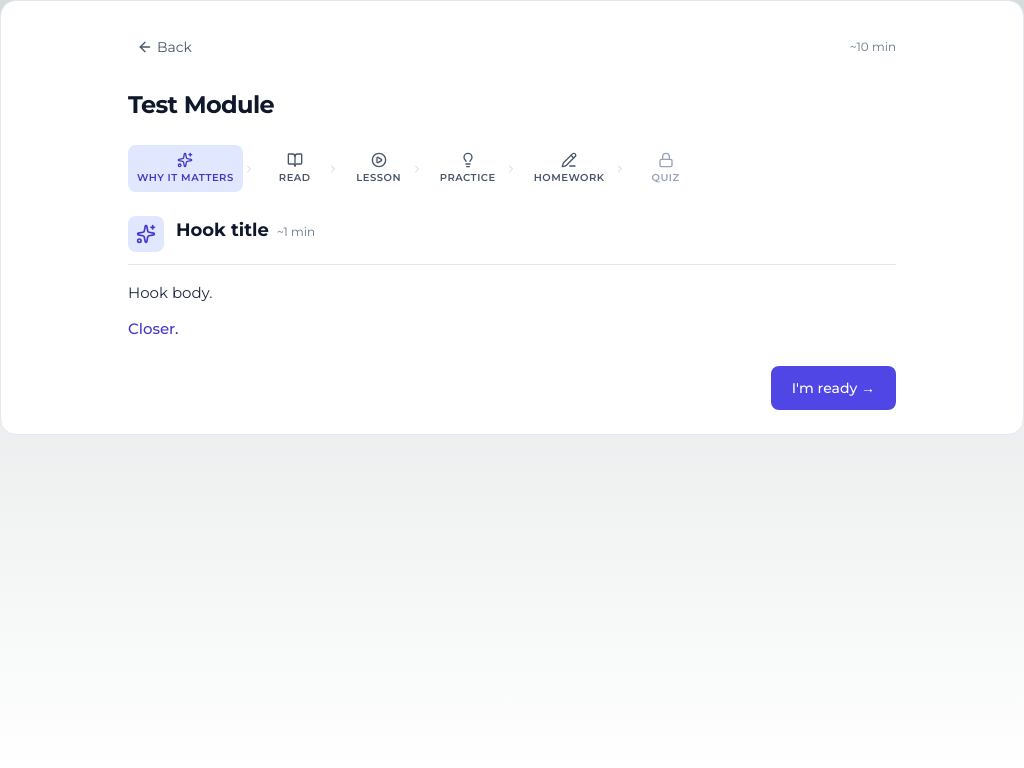
Test case: ModuleStructure section persistence › does not re-send a section that already succeeded on retry
This screenshot has width=1024, height=768.
Click the button "I'm ready →" at (833, 388), box [771,366,896,410]
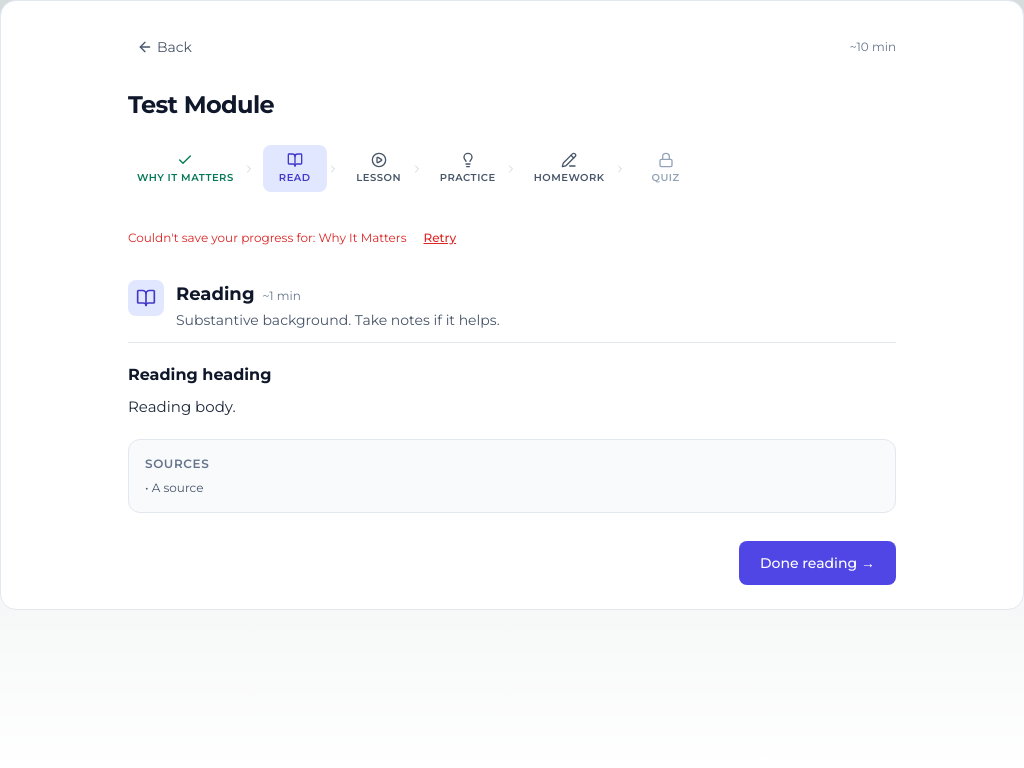
Check: the message "Couldn't save your progress for: Why It Matters Retry" is shown, box [128,216,465,260]
Click the button "Retry" at (440, 238), box [414,216,465,260]
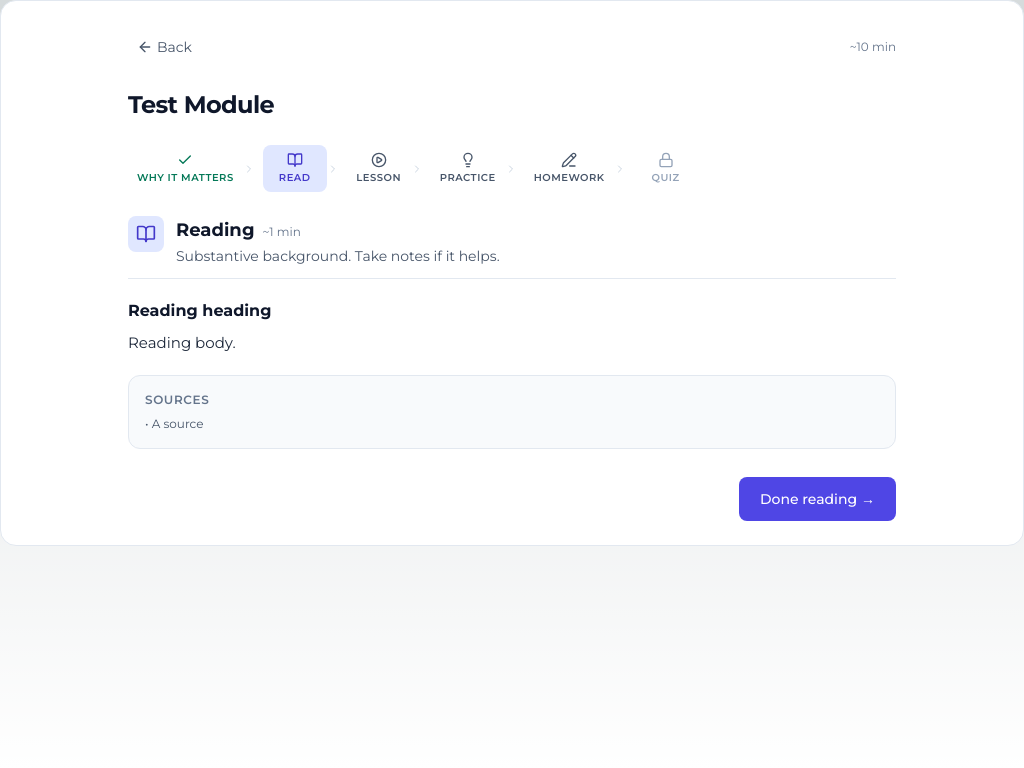
Check: the message "Couldn't save your progress for: Why It Matters Retry" is gone
Click the button "Done reading →" at (818, 499), box [739,477,896,521]
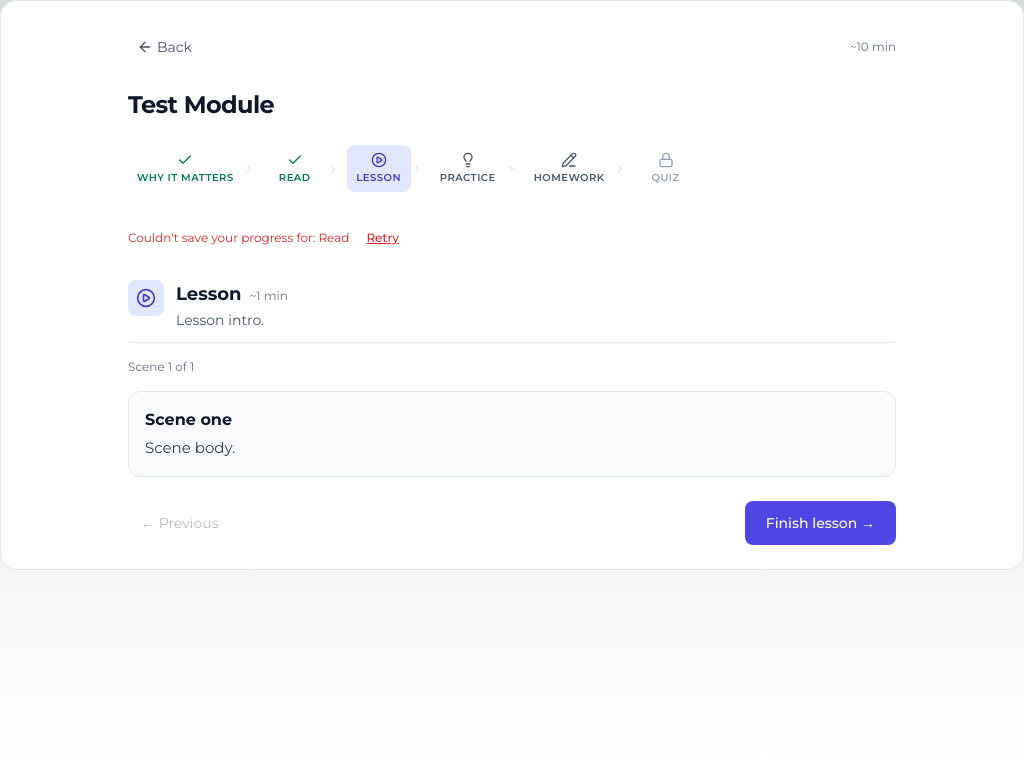
Check: the message does not show "Why It Matters", box [128,216,408,260]
Check: the message shows "Couldn't save your progress for: Read", box [128,230,349,245]
Click the button "Retry" at (383, 238), box [357,216,408,260]
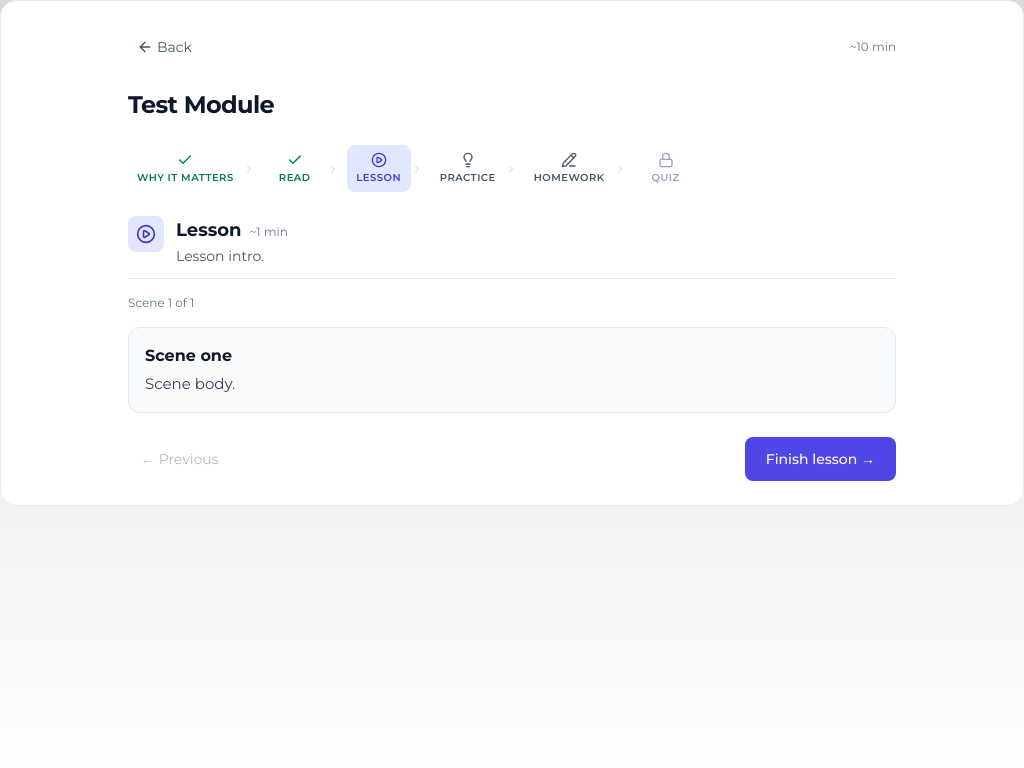
Check: the message "Couldn't save your progress for: Read Retry" is gone
